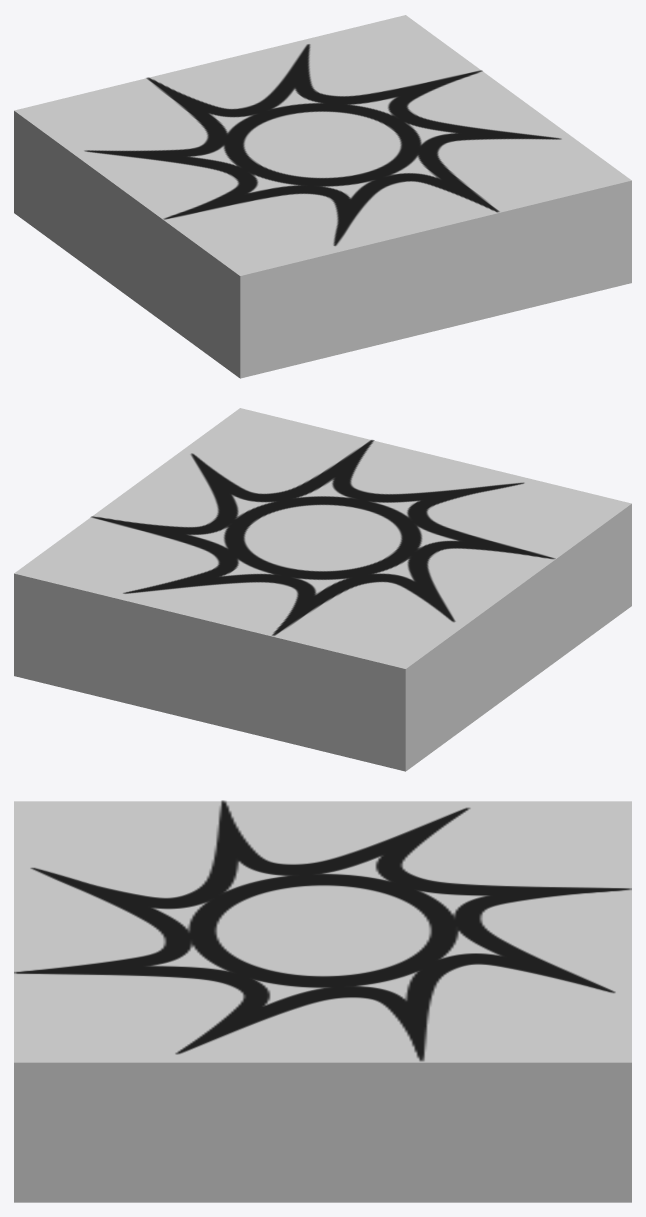
The model's file is spawn.glb.
The picture shows the model from 3 angles, top to bottom: view 1: azimuth 30°, elevation 25°; view 2: azimuth 150°, elevation 25°; view 3: azimuth 270°, elevation 25°; orthographic projection. The views are drawn at different scales.
Parts seen in each view (by area): view 1: Cube, PC _ Computer - Roblox - Miscellaneous - Spawn Location; view 2: Cube, PC _ Computer - Roblox - Miscellaneous - Spawn Location; view 3: Cube, PC _ Computer - Roblox - Miscellaneous - Spawn Location.
Boxes of the visible parts, <box> form: Cube: <box>14,15,631,378</box>; PC _ Computer - Roblox - Miscellaneous - Spawn Location: <box>84,44,561,245</box>; Cube: <box>14,408,631,771</box>; PC _ Computer - Roblox - Miscellaneous - Spawn Location: <box>91,440,555,635</box>; Cube: <box>14,801,631,1202</box>; PC _ Computer - Roblox - Miscellaneous - Spawn Location: <box>14,800,631,1061</box>.
Bounding box in the file's own units: 4 × 1.01 × 4.
Materials: 1 (1 with a texture image).
